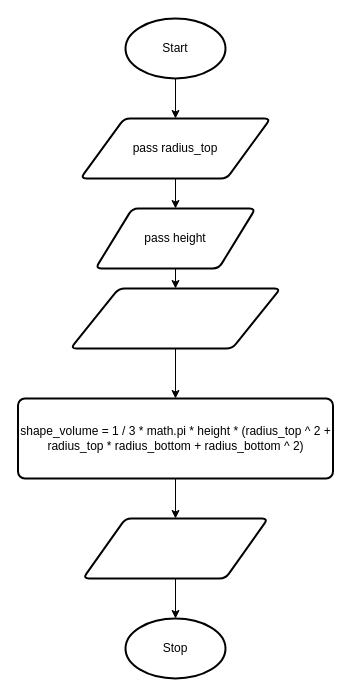
Image size: 351x696. Some labels were removed from this diagram. The box of each missing label's shape, as (x1, y1, x2, y2) in pixels:
pass radius_bottom: (69, 287, 281, 349)
return volume: (82, 517, 268, 579)
